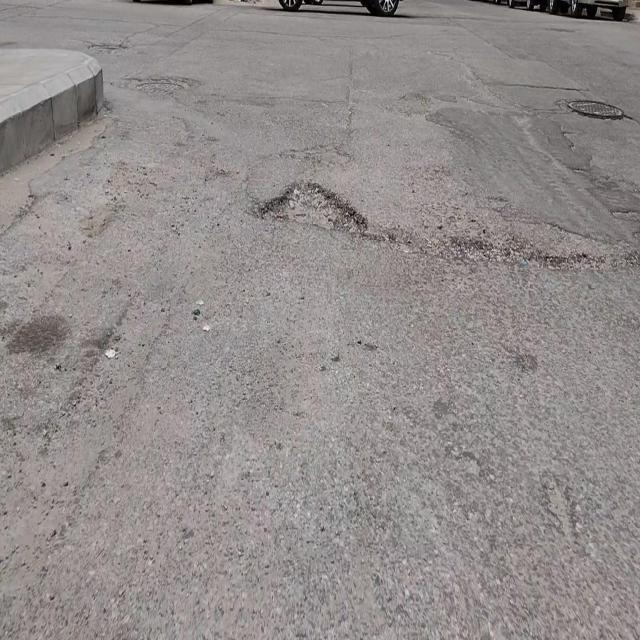Pothole: (262, 177, 368, 236)
